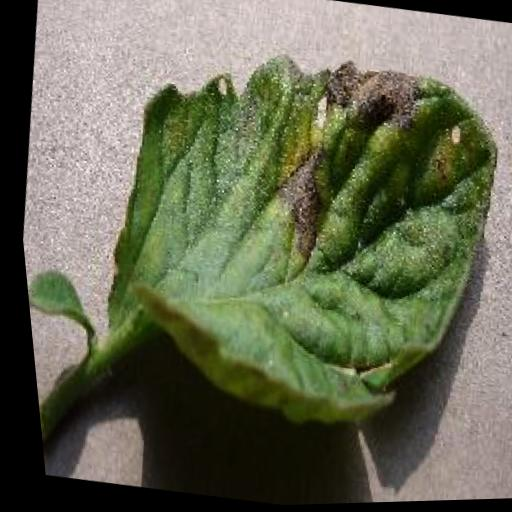Late Blight: (69, 21, 512, 450)
